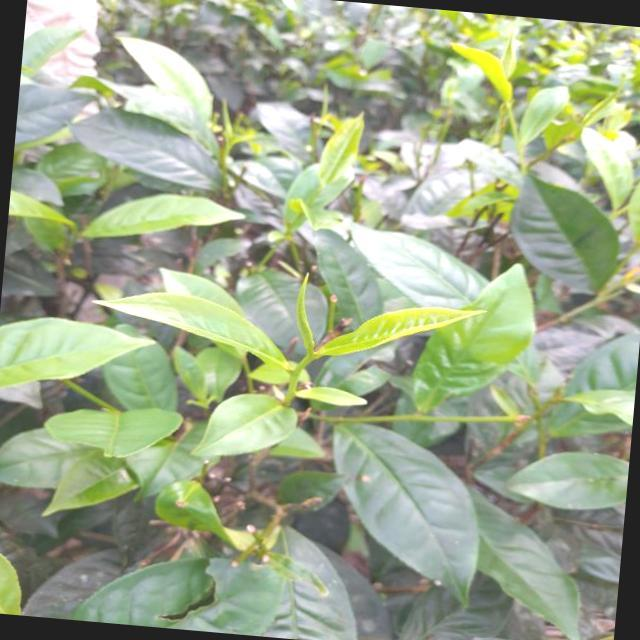Stem: (301, 355, 313, 366)
